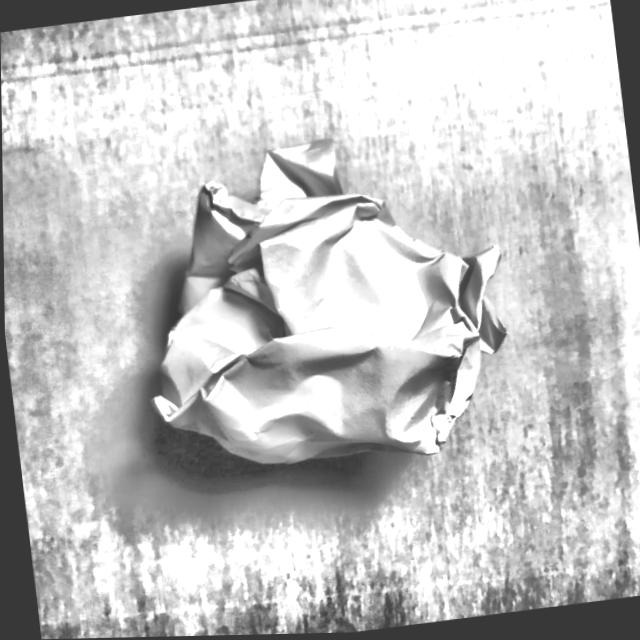Paper: (110, 108, 532, 504)
